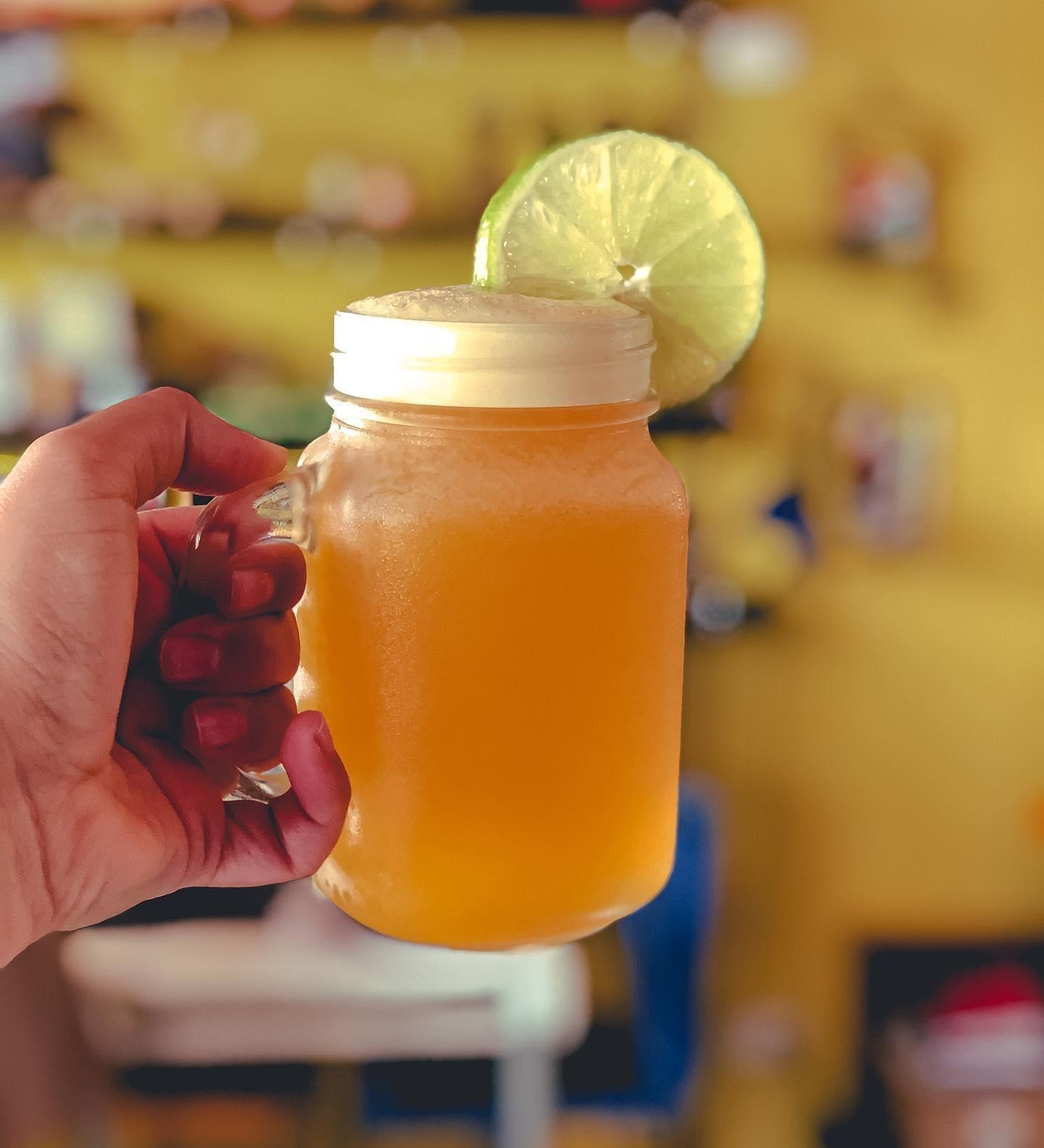glass-mug: (173, 286, 703, 959)
